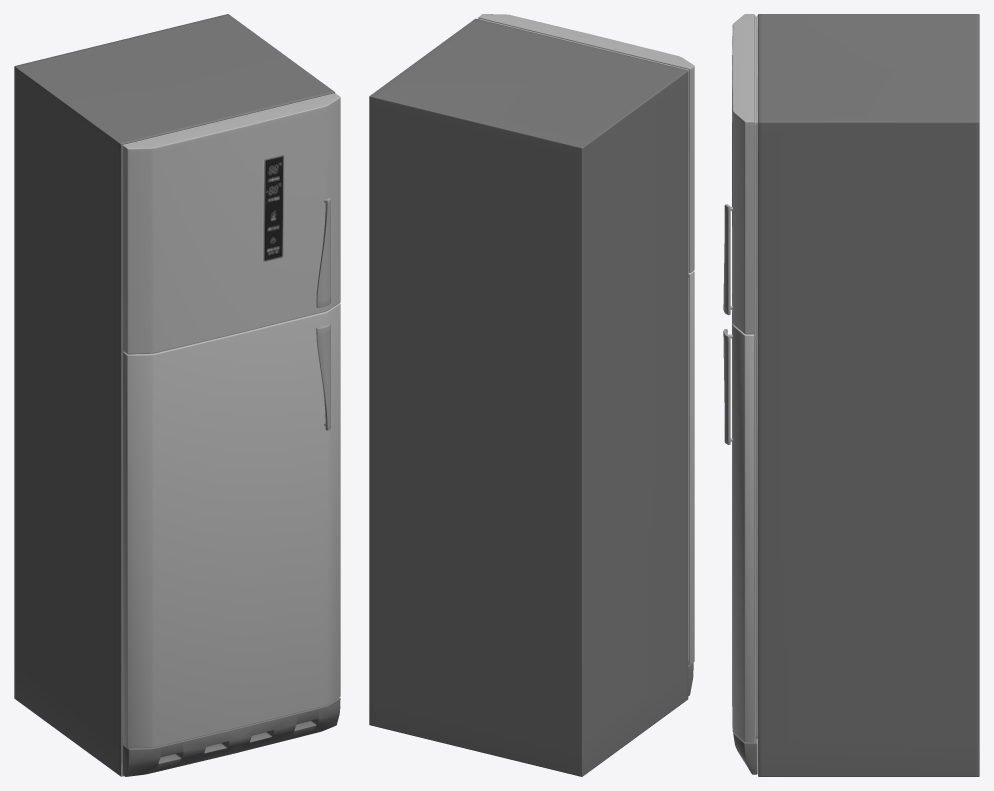
Rendered from visual_LowPoly_11_Fridge.dae.
3 views of the same model, side by side, from view 1: azimuth 30°, elevation 25°; view 2: azimuth 150°, elevation 25°; view 3: azimuth 270°, elevation 25° (orthographic). The views are drawn at different scales.
Parts seen in each view (by area): view 1: SM_fridge; view 2: SM_fridge; view 3: SM_fridge.
Part boxes in pixels (left/top/right/bottom): SM_fridge: left=14, top=14, right=340, bottom=776; SM_fridge: left=369, top=14, right=694, bottom=776; SM_fridge: left=723, top=14, right=979, bottom=776.
Bounding box in the file's own units: 65.07 × 65.01 × 183.
Materials: 1 (1 with a texture image).
